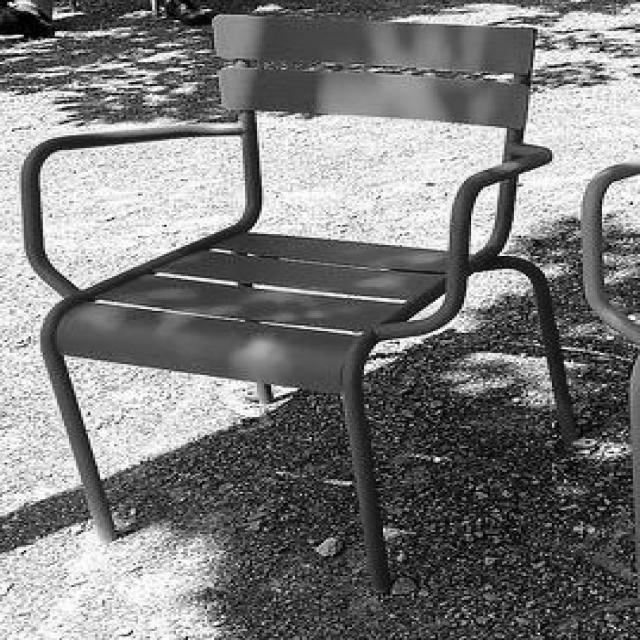chair: (22, 12, 586, 594)
